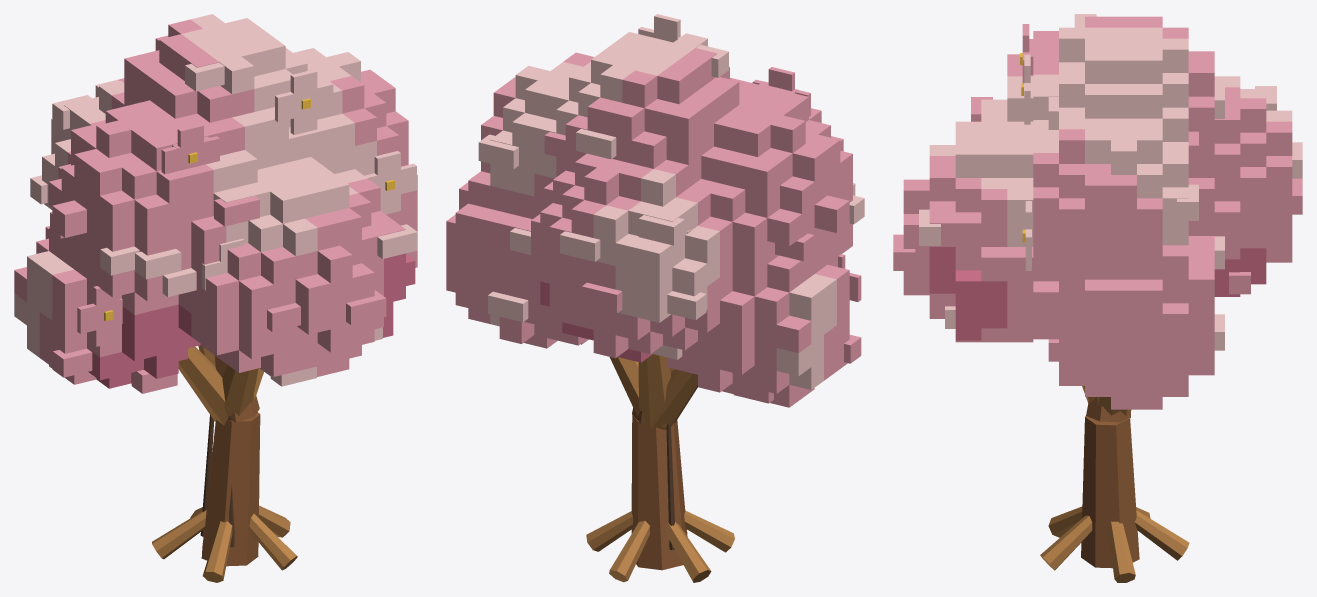
Rendered from tree_blossom.glb.
3 views of the same model, side by side, from view 1: azimuth 30°, elevation 25°; view 2: azimuth 150°, elevation 25°; view 3: azimuth 270°, elevation 25° (orthographic).
Parts seen in each view (by area): view 1: canopy__tree_blossom_mid.004, canopy__tree_blossom_light.004, body__wood2.037, canopy__tree_blossom_dark.004, body__wood.038, body__wood_dark.041; view 2: canopy__tree_blossom_mid.004, canopy__tree_blossom_light.004, body__wood2.037, body__wood.038, canopy__tree_blossom_dark.004, body__wood_dark.041; view 3: canopy__tree_blossom_mid.004, canopy__tree_blossom_light.004, body__wood.038, canopy__tree_blossom_dark.004, body__wood2.037.
Boxes of the visible parts, box(x1,y1,x2,y2) form: canopy__tree_blossom_mid.004: box(14, 19, 417, 393); canopy__tree_blossom_light.004: box(14, 14, 417, 386); body__wood2.037: box(152, 345, 297, 582); canopy__tree_blossom_dark.004: box(87, 253, 415, 388); body__wood.038: box(201, 355, 260, 566); body__wood_dark.041: box(200, 415, 234, 547); canopy__tree_blossom_mid.004: box(446, 48, 861, 407); canopy__tree_blossom_light.004: box(478, 14, 864, 389); body__wood2.037: box(586, 354, 734, 582); body__wood.038: box(631, 368, 687, 570); canopy__tree_blossom_dark.004: box(540, 281, 652, 362); body__wood_dark.041: box(666, 422, 674, 550); canopy__tree_blossom_mid.004: box(893, 16, 1302, 409); canopy__tree_blossom_light.004: box(919, 14, 1302, 350); body__wood.038: box(1081, 397, 1139, 568); canopy__tree_blossom_dark.004: box(929, 247, 1266, 340); body__wood2.037: box(1040, 386, 1189, 582).
Size of the model in its own units: 2.93 by 3.97 by 2.85.
